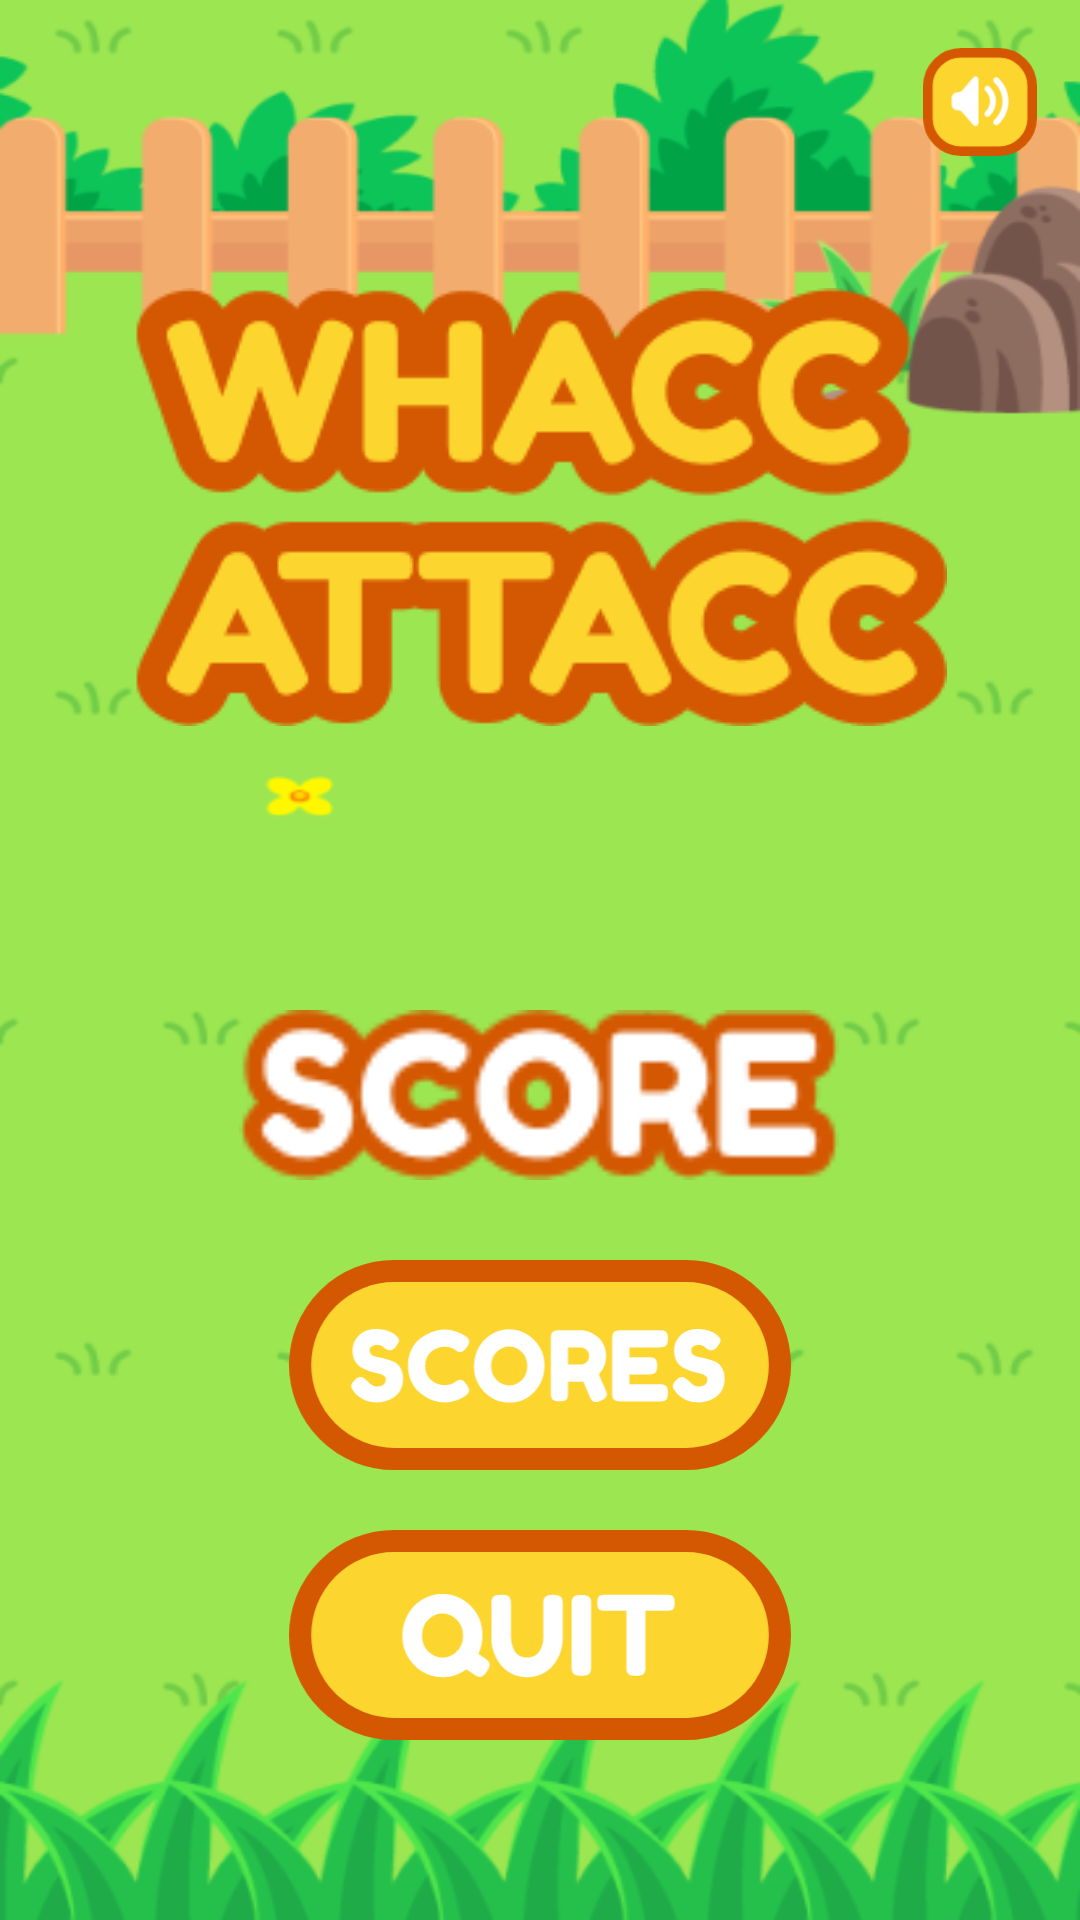

Screen size 1080 × 1920. Icon name, then its center in pixels as (x,y):
volumeon: (980,102)
